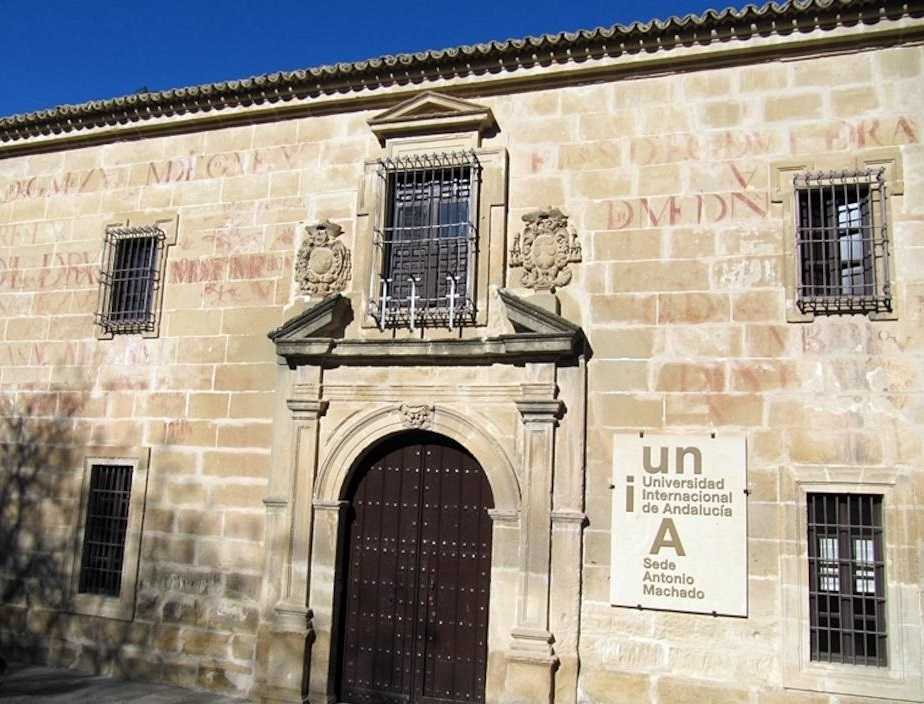arco-medio-punto: (309, 404, 526, 532)
fronton: (362, 87, 495, 130)
fronton-partido: (263, 287, 589, 360)
vano-adintelado: (345, 148, 514, 356), (772, 460, 912, 677), (763, 143, 907, 325), (63, 443, 154, 604), (83, 214, 181, 344)
